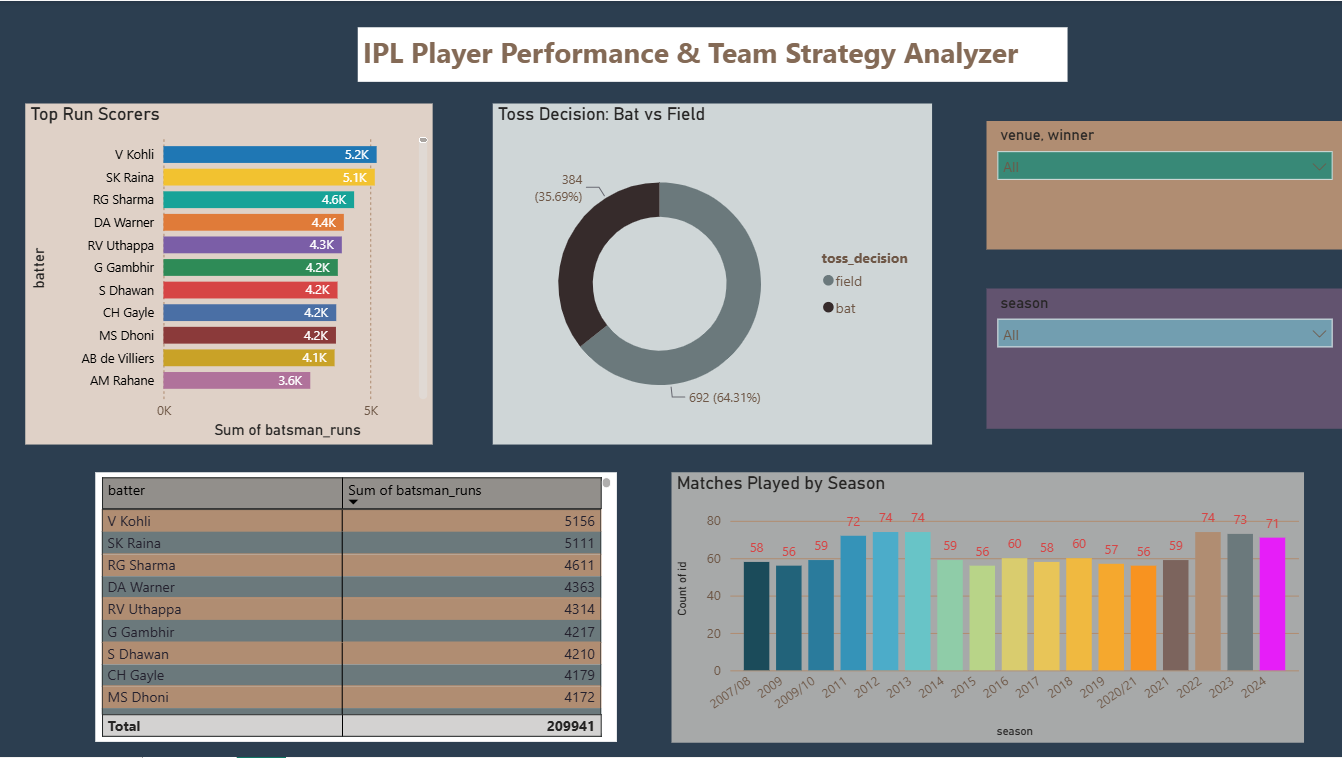

This screenshot's page, from the dashboard's own definition file:
{"tool":"powerbi","page":{"name":"Page 1","canvas":[1280,720],"ordinal":0},"visuals":[{"type":"cardVisual","fields":{"Data":["CountNonNull(matches_clean.id)"]},"box":[421,9,294,280],"z":0},{"type":"tableEx","fields":{"Values":["deliveries_clean.batter","deliveries_clean.batsman_runs"]},"box":[38,338,306,232],"z":1000},{"type":"donutChart","fields":{"Category":["matches_clean.toss_decision"],"Y":["CountNonNull(matches_clean.id)"]},"box":[754,9,303,280],"z":2000},{"type":"lineChart","fields":{"Category":["matches_clean.season"],"Y":["CountNonNull(matches_clean.id)"]},"box":[421,325,439,258],"z":3000},{"type":"clusteredBarChart","fields":{"Category":["deliveries_clean.batter"],"Y":["Sum(deliveries_clean.batsman_runs)"]},"box":[53,9,329,280],"z":4000}]}

Visuals, with their boxes in screenshot pixels (x1, y1, x2, y2), scaled from the page's 1280x720 canvas onto the 1342x758 screenshot:
cardVisual - CountNonNull(matches_clean.id): (x1=441, y1=9, x2=750, y2=304)
tableEx - deliveries_clean.batter x deliveries_clean.batsman_runs: (x1=40, y1=356, x2=361, y2=600)
donutChart - matches_clean.toss_decision x CountNonNull(matches_clean.id): (x1=791, y1=9, x2=1108, y2=304)
lineChart - matches_clean.season x CountNonNull(matches_clean.id): (x1=441, y1=342, x2=902, y2=614)
clusteredBarChart - deliveries_clean.batter x Sum(deliveries_clean.batsman_runs): (x1=56, y1=9, x2=401, y2=304)
